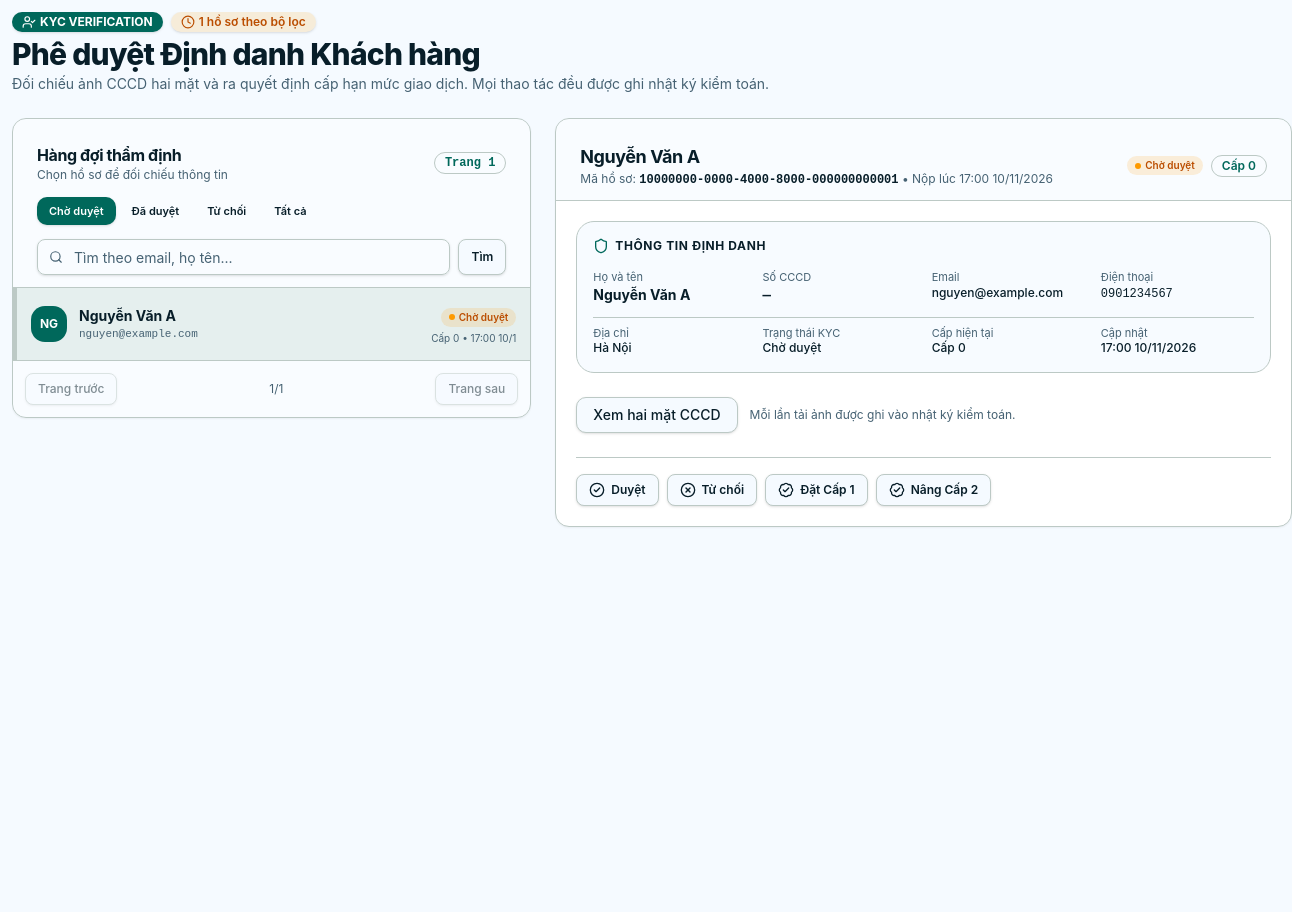
Scenario: Admin KYC duplicate and unknown outcome regressions › keeps unknown writes locked; checks with GET only and unlocks after the exact profile confirms the intended outcome
The width and height of the screenshot is (1292, 912).
Step 1. Click the button "Duyệt" → (617, 490), box top-left (576, 474), bottom-right (658, 506)
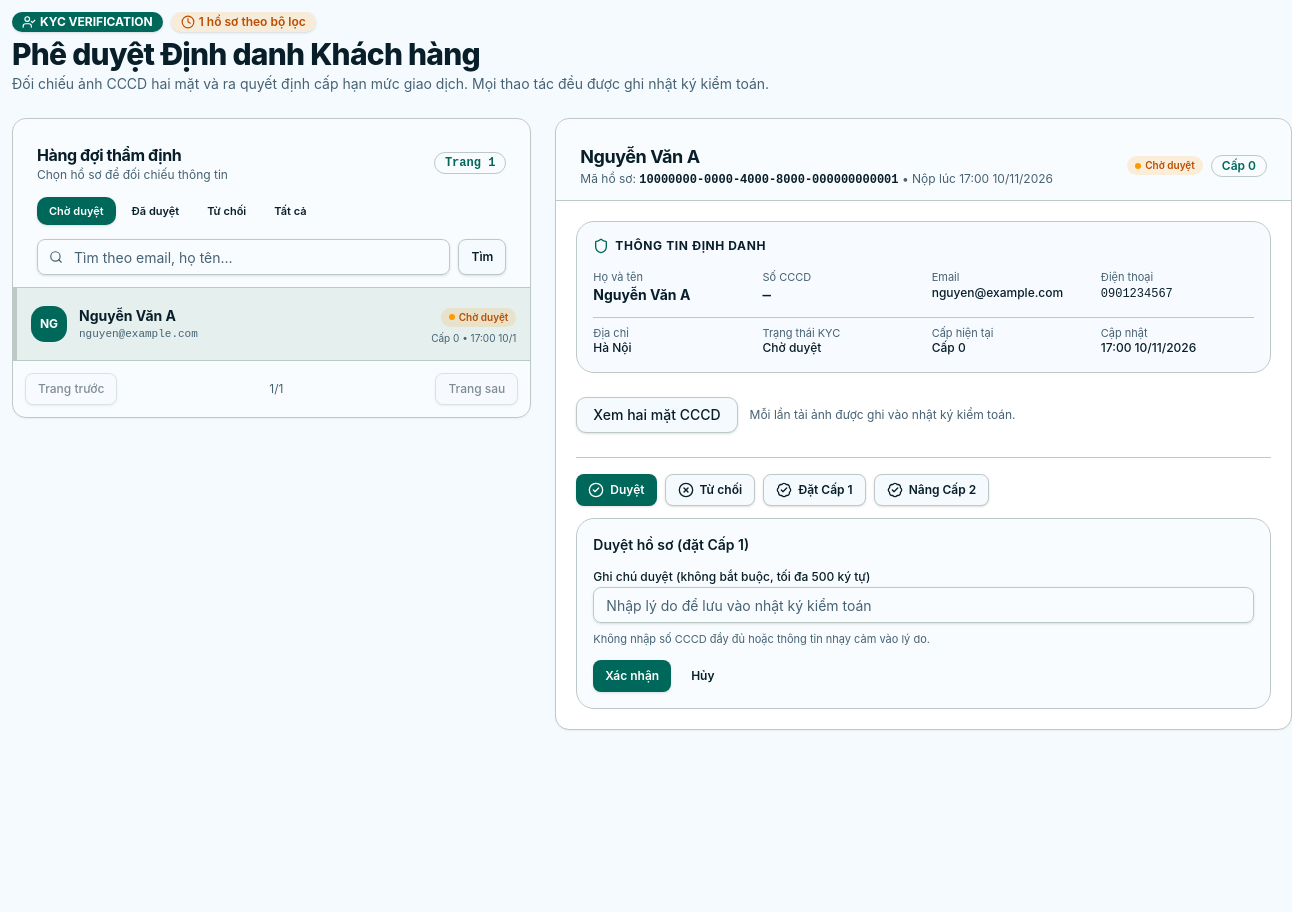
Step 2. Click the button "Xác nhận" → (632, 676), box top-left (593, 660), bottom-right (671, 692)
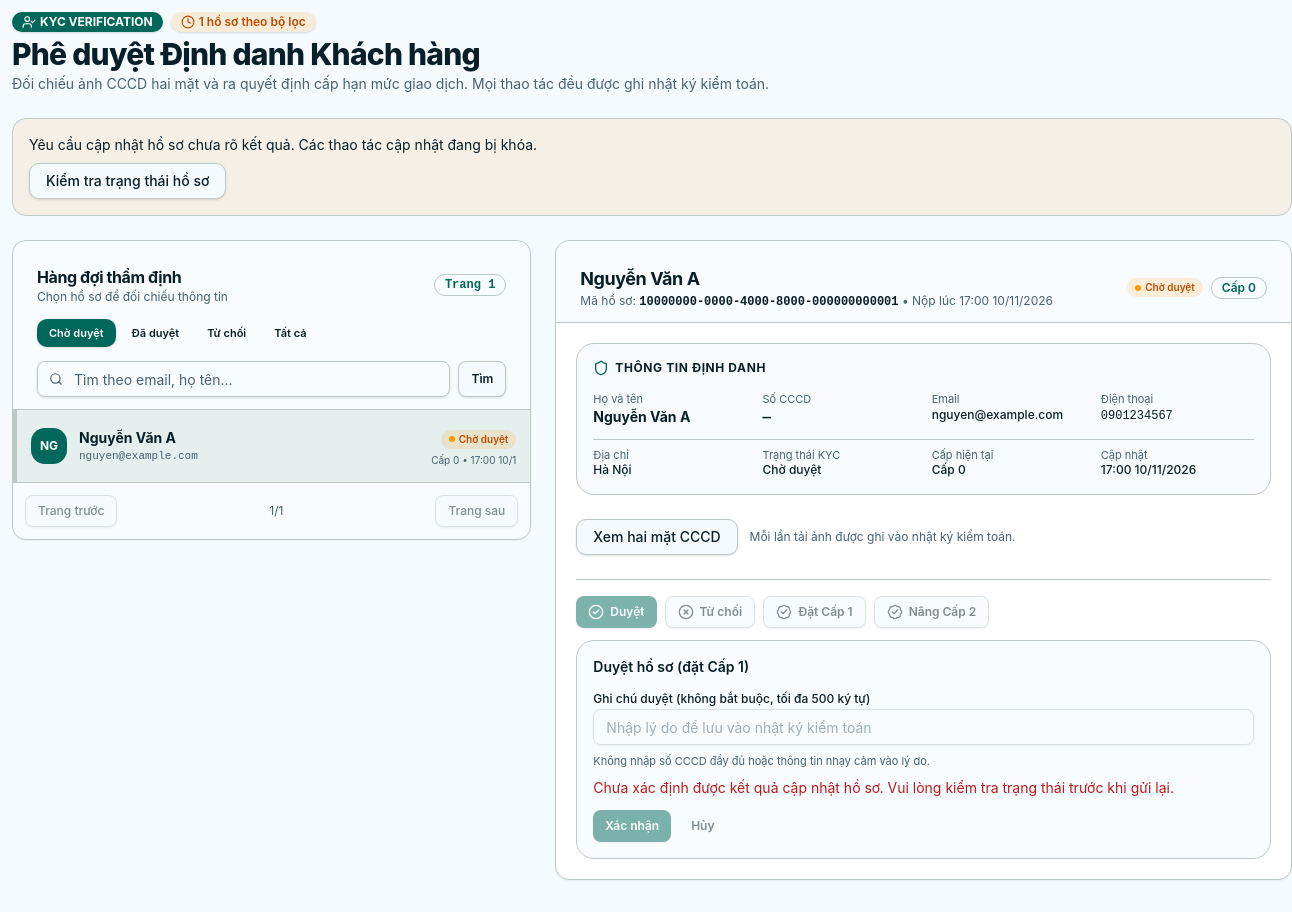
Result: the text "Yêu cầu cập nhật hồ sơ chưa rõ kết quả. Các thao tác cập nhật đang bị khóa." is shown at top-left (29, 136), bottom-right (537, 153)
Result: the button "Xác nhận" is disabled at top-left (593, 810), bottom-right (671, 842)
Result: the button "Hủy" is disabled at top-left (679, 810), bottom-right (726, 842)
Step 3. Click the button "Kiểm tra trạng thái hồ sơ" → (128, 181), box top-left (29, 163), bottom-right (226, 199)
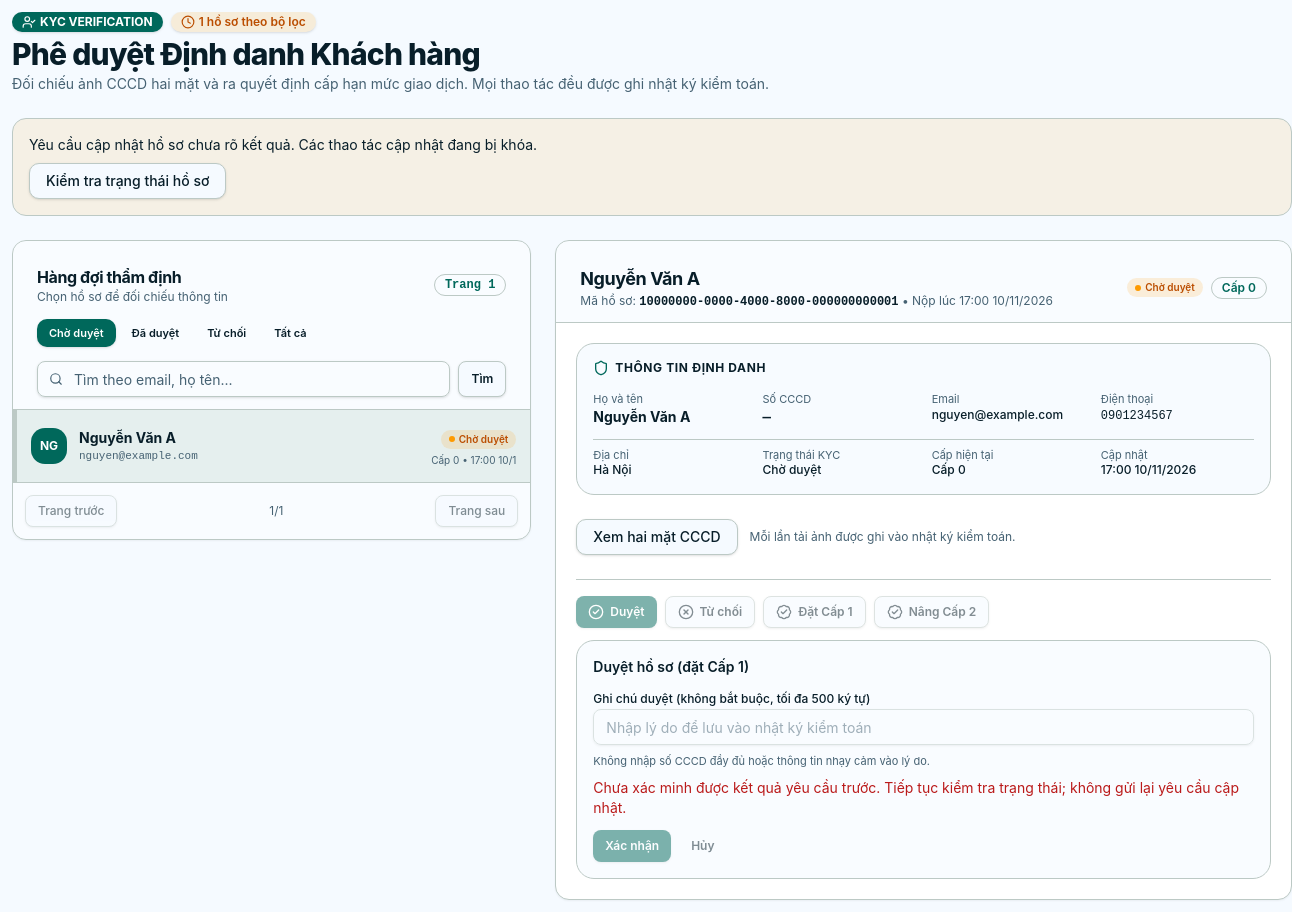
Result: the button "Xác nhận" is disabled at top-left (593, 830), bottom-right (671, 862)
Result: the text "Chưa xác minh được kết quả yêu cầu trước. Tiếp tục kiểm tra trạng thái; không gửi lại yêu cầu cập nhật." is shown at top-left (593, 779), bottom-right (1239, 816)
Step 4. Click the button "Kiểm tra trạng thái hồ sơ" → (128, 181), box top-left (29, 163), bottom-right (226, 199)
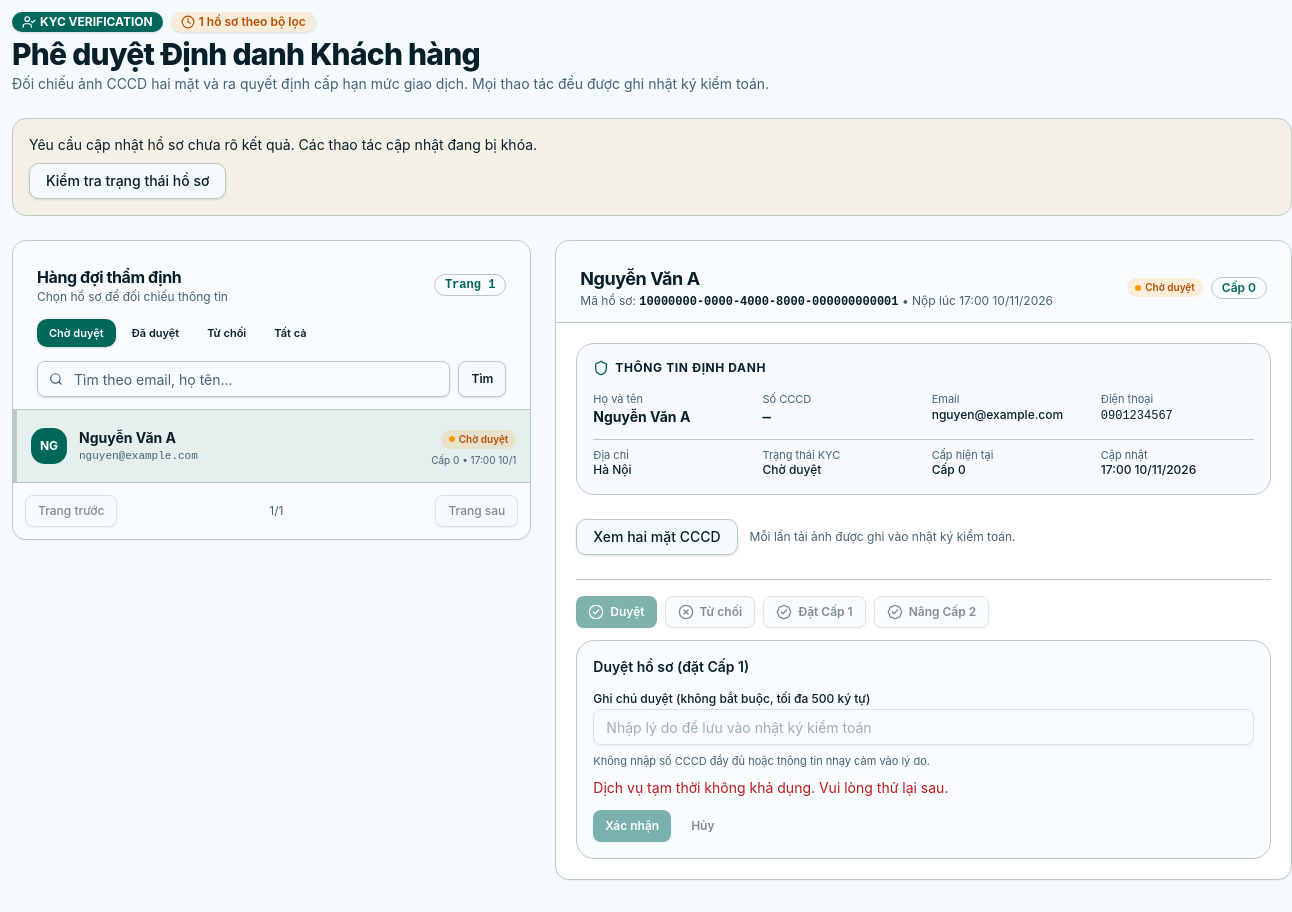
Result: the button "Xác nhận" is disabled at top-left (593, 810), bottom-right (671, 842)
Result: the text "Dịch vụ tạm thời không khả dụng. Vui lòng thử lại sau." is shown at top-left (593, 779), bottom-right (948, 796)
Step 5. Click the button "Kiểm tra trạng thái hồ sơ" → (128, 181), box top-left (29, 163), bottom-right (226, 199)
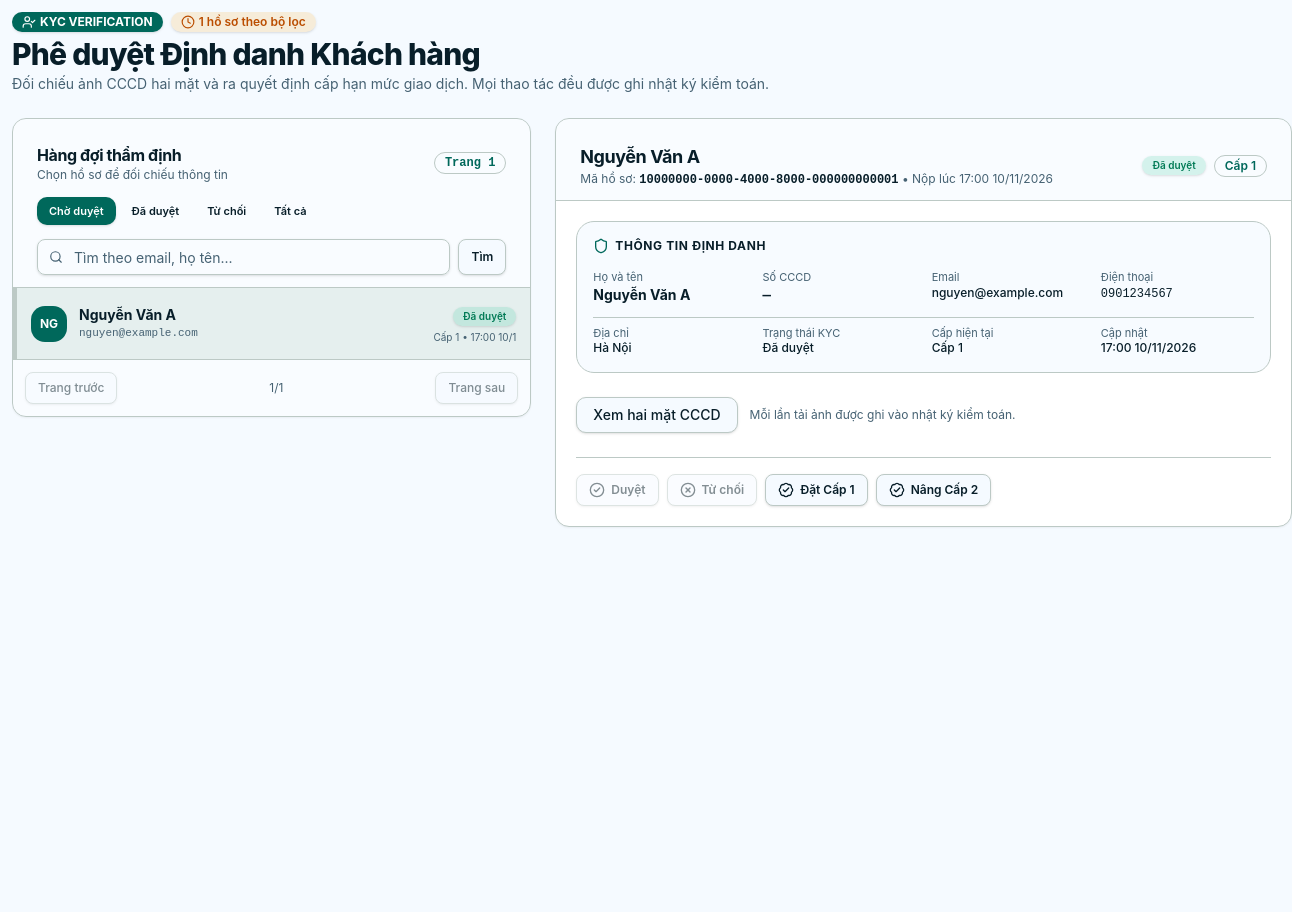
Expected: the field with placeholder "Nhập lý do để lưu vào nhật ký kiểm toán" is not shown
Result: the text "Yêu cầu cập nhật hồ sơ chưa rõ kết quả. Các thao tác cập nhật đang bị khóa." is gone
